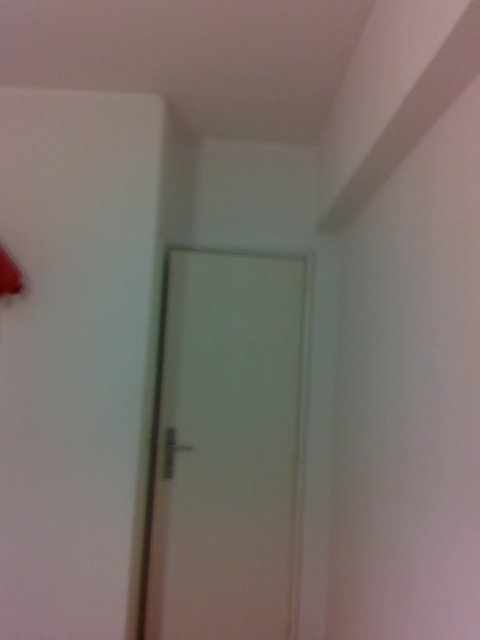closed: (138, 238, 311, 639)
